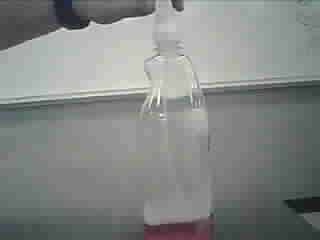hazard: (136, 1, 220, 240)
